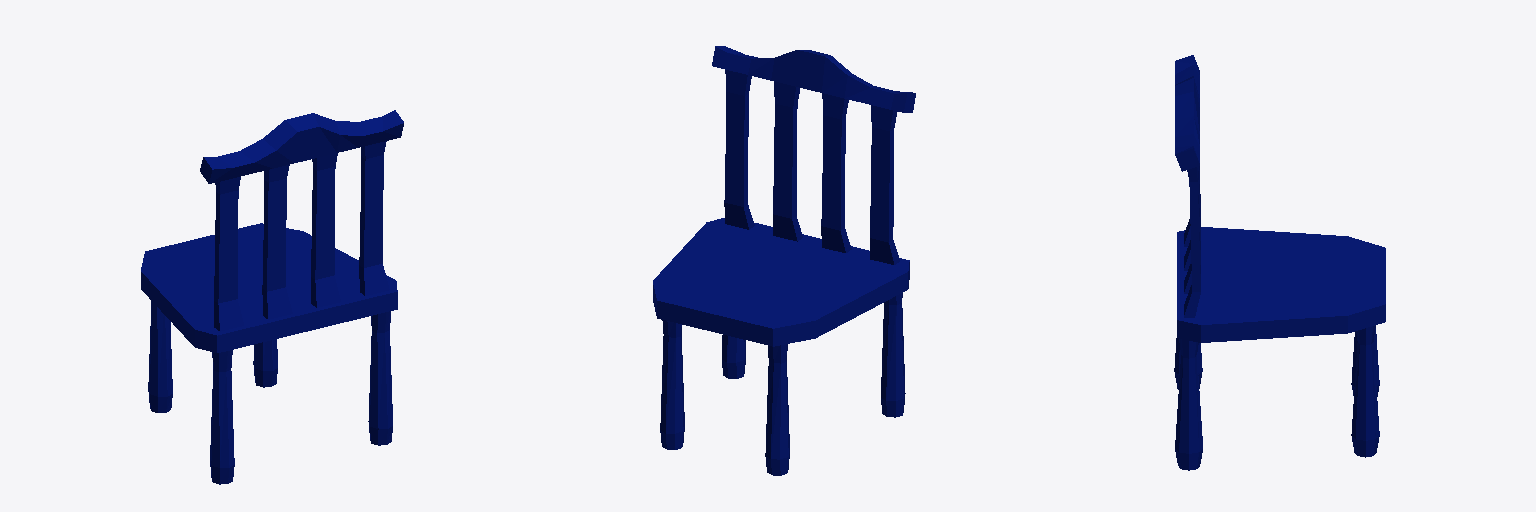
File: ChairRemodelForSubstance.obj
The picture shows the model from 3 angles: view 1: azimuth 30°, elevation 25°; view 2: azimuth 150°, elevation 25°; view 3: azimuth 270°, elevation 25°; orthographic projection.
Visible parts, largest first — view 1: ChairTop ChairSeat, ChairTop Back1 Back2 Back3 Back4, ChairTop ChairSeat Leg1 Leg4 Leg3 Leg2, ChairTop; view 2: ChairTop ChairSeat, ChairTop Back1 Back2 Back3 Back4, ChairTop ChairSeat Leg1 Leg4 Leg3 Leg2, ChairTop; view 3: ChairTop ChairSeat, ChairTop ChairSeat Leg1 Leg4 Leg3 Leg2, ChairTop, ChairTop Back1 Back2 Back3 Back4.
Boxes of the visible parts, box(x1,y1,x2,y2) form: ChairTop ChairSeat: box(141, 223, 397, 352); ChairTop Back1 Back2 Back3 Back4: box(214, 141, 389, 331); ChairTop ChairSeat Leg1 Leg4 Leg3 Leg2: box(148, 301, 392, 484); ChairTop: box(200, 110, 403, 183); ChairTop ChairSeat: box(653, 218, 909, 346); ChairTop Back1 Back2 Back3 Back4: box(724, 70, 899, 264); ChairTop ChairSeat Leg1 Leg4 Leg3 Leg2: box(660, 293, 905, 475); ChairTop: box(712, 46, 915, 112); ChairTop ChairSeat: box(1177, 227, 1385, 342); ChairTop ChairSeat Leg1 Leg4 Leg3 Leg2: box(1174, 325, 1379, 470); ChairTop: box(1175, 55, 1199, 171); ChairTop Back1 Back2 Back3 Back4: box(1184, 166, 1200, 317).
Size of the model in its own units: 3.54 by 5.74 by 3.21.